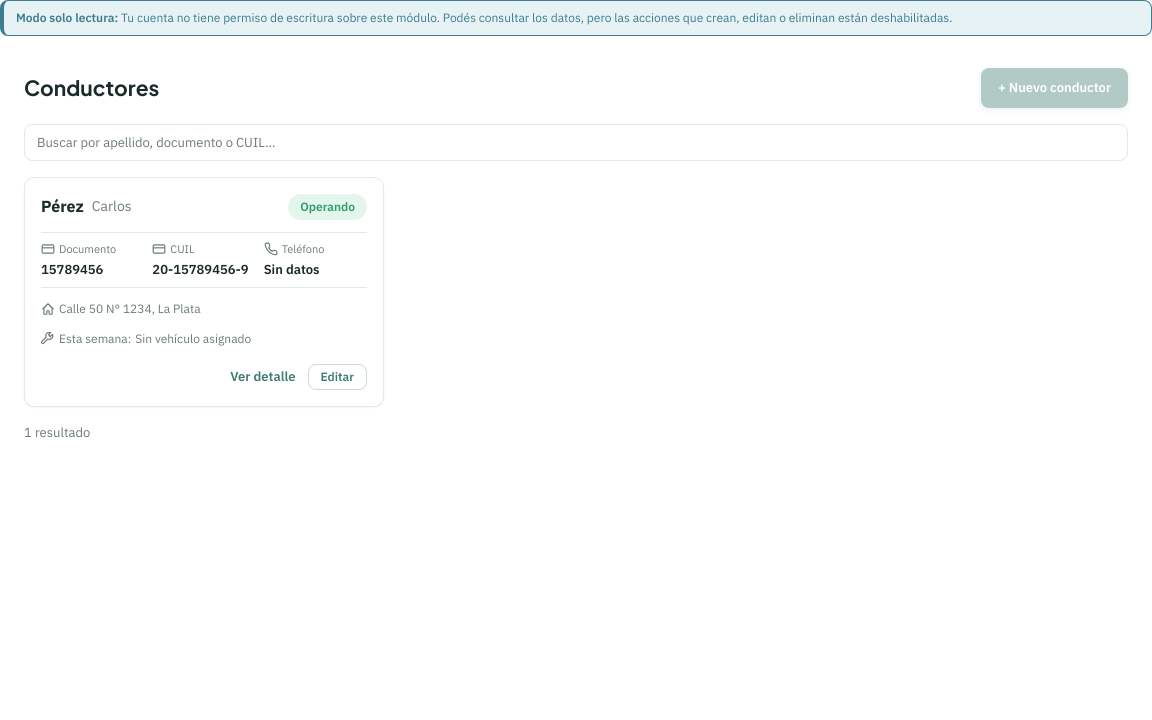
ConductoresPage — aviso de solo lectura › sin permiso de escritura: muestra el aviso también en el detalle (triangulación)
The image size is (1152, 720).
Click the text "Pérez" at (62, 206), box [41,194,84,218]
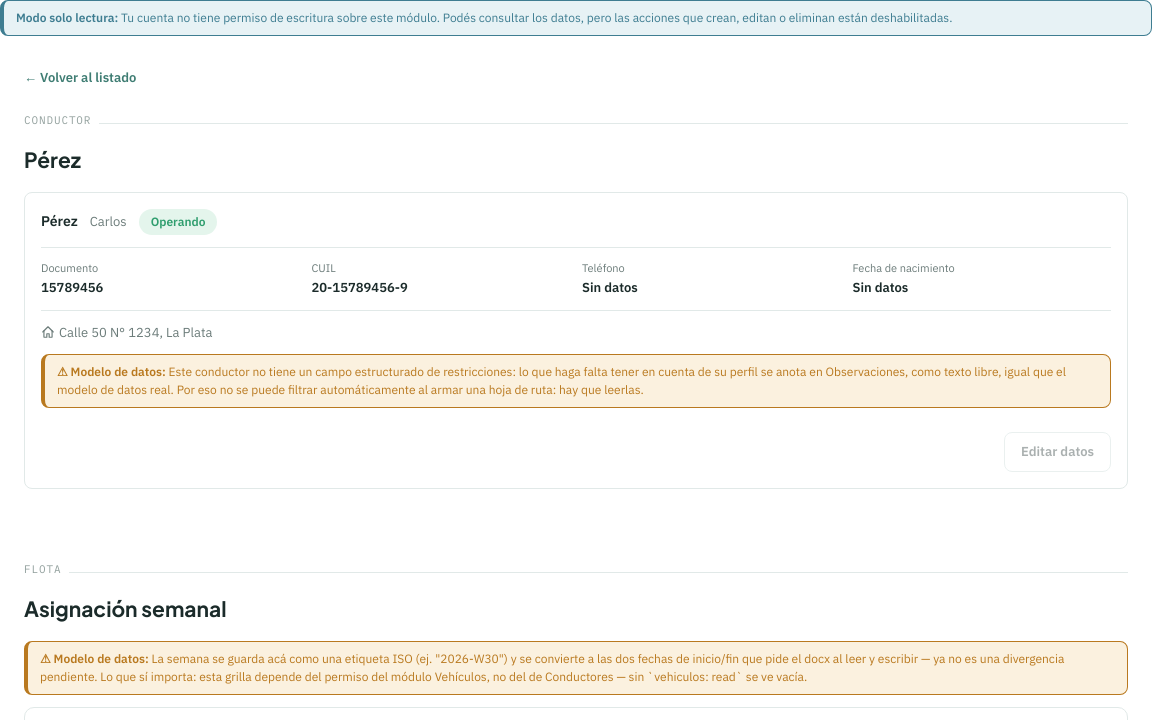
Expected: the text "Modo solo lectura:" is shown, [16,10,121,25]
Expected: the button "Editar datos" is shown, [1004,432,1111,472]
